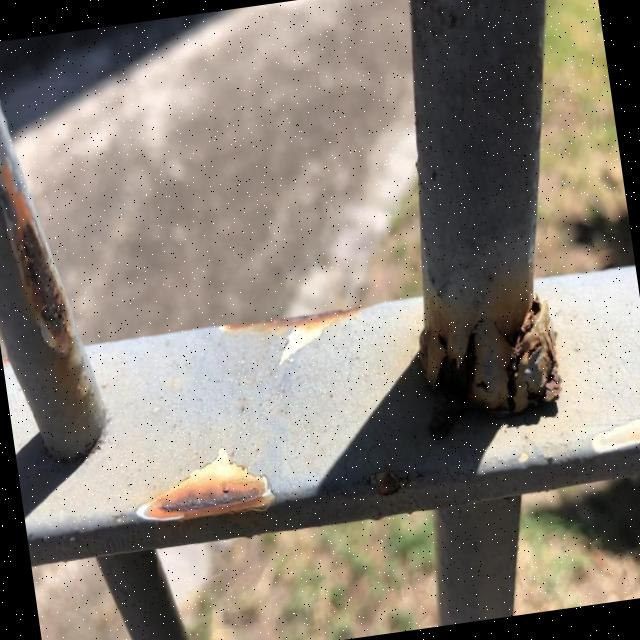Corrosion: (364, 0, 609, 429), (410, 290, 567, 430), (128, 440, 277, 530)
